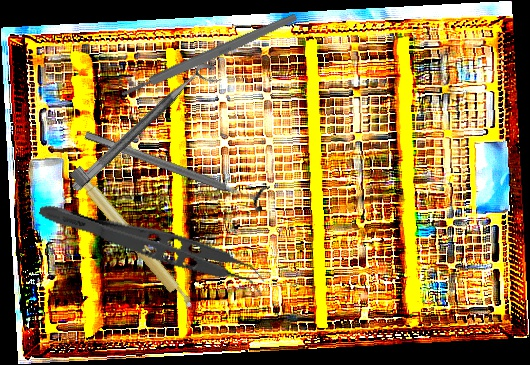Fixation Ring: (69, 56, 226, 205), (80, 120, 271, 214)
Scalpel Handle: (68, 165, 197, 314), (119, 11, 299, 100)
Tissue Forceps: (32, 198, 271, 298)
